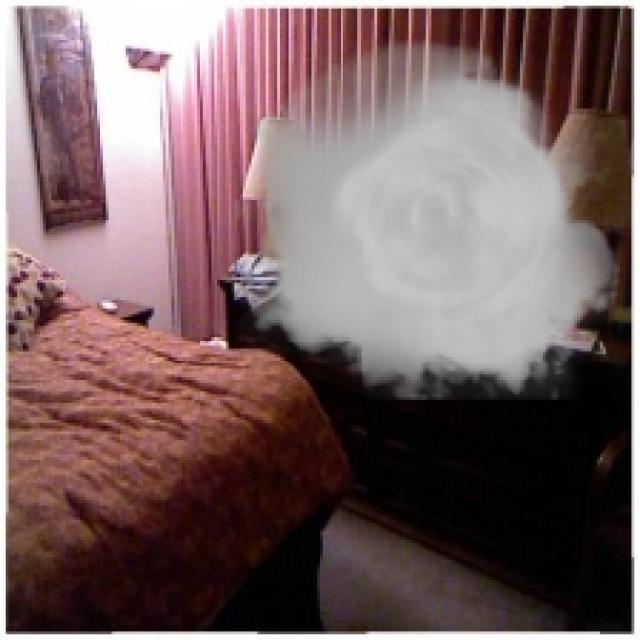Smoke: (234, 40, 632, 400)
